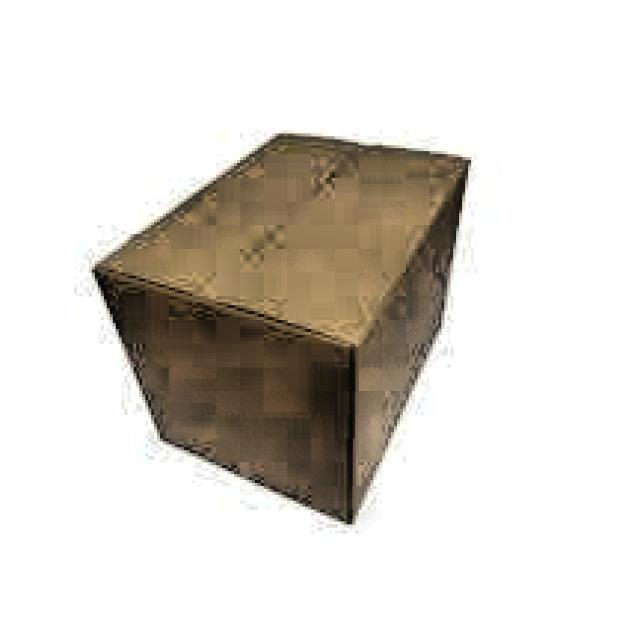cardboard: (89, 128, 471, 524)
